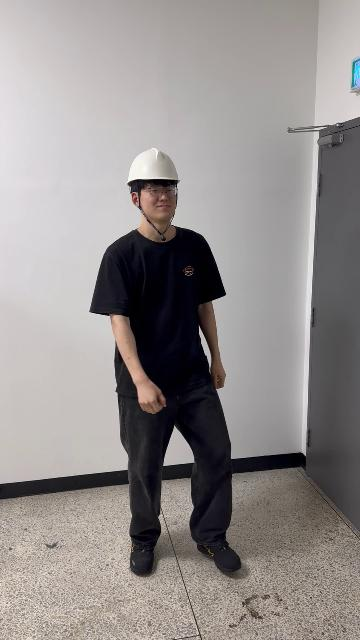helmet_worn: (129, 147, 179, 186)
shoe_worn: (197, 537, 243, 575), (125, 541, 162, 577)
vest_not_worn: (115, 228, 218, 413)
